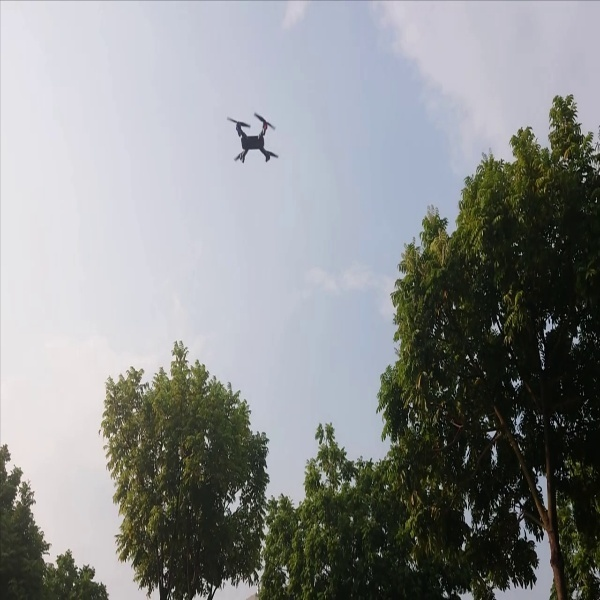drone: (221, 104, 284, 165)
